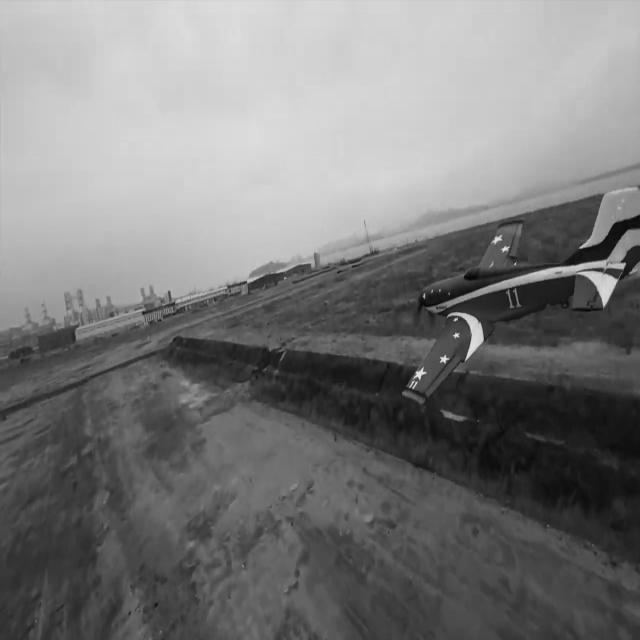iha: (398, 144, 633, 425)
